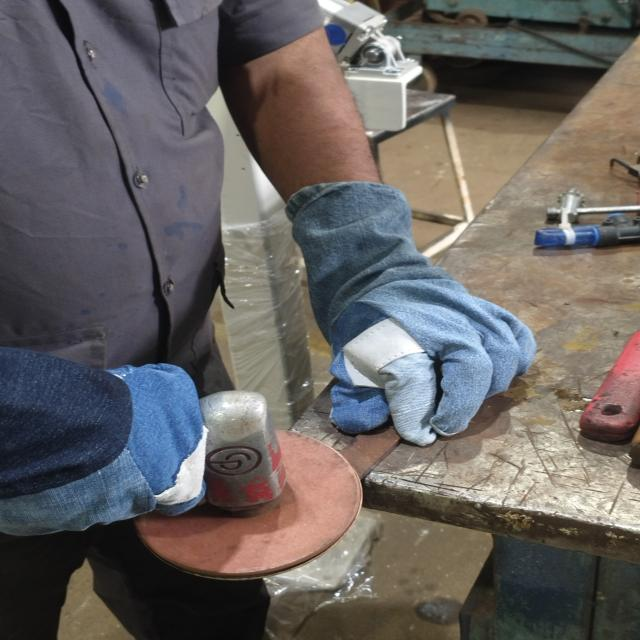Gloves-Detection: (276, 180, 519, 433), (0, 341, 234, 534)
